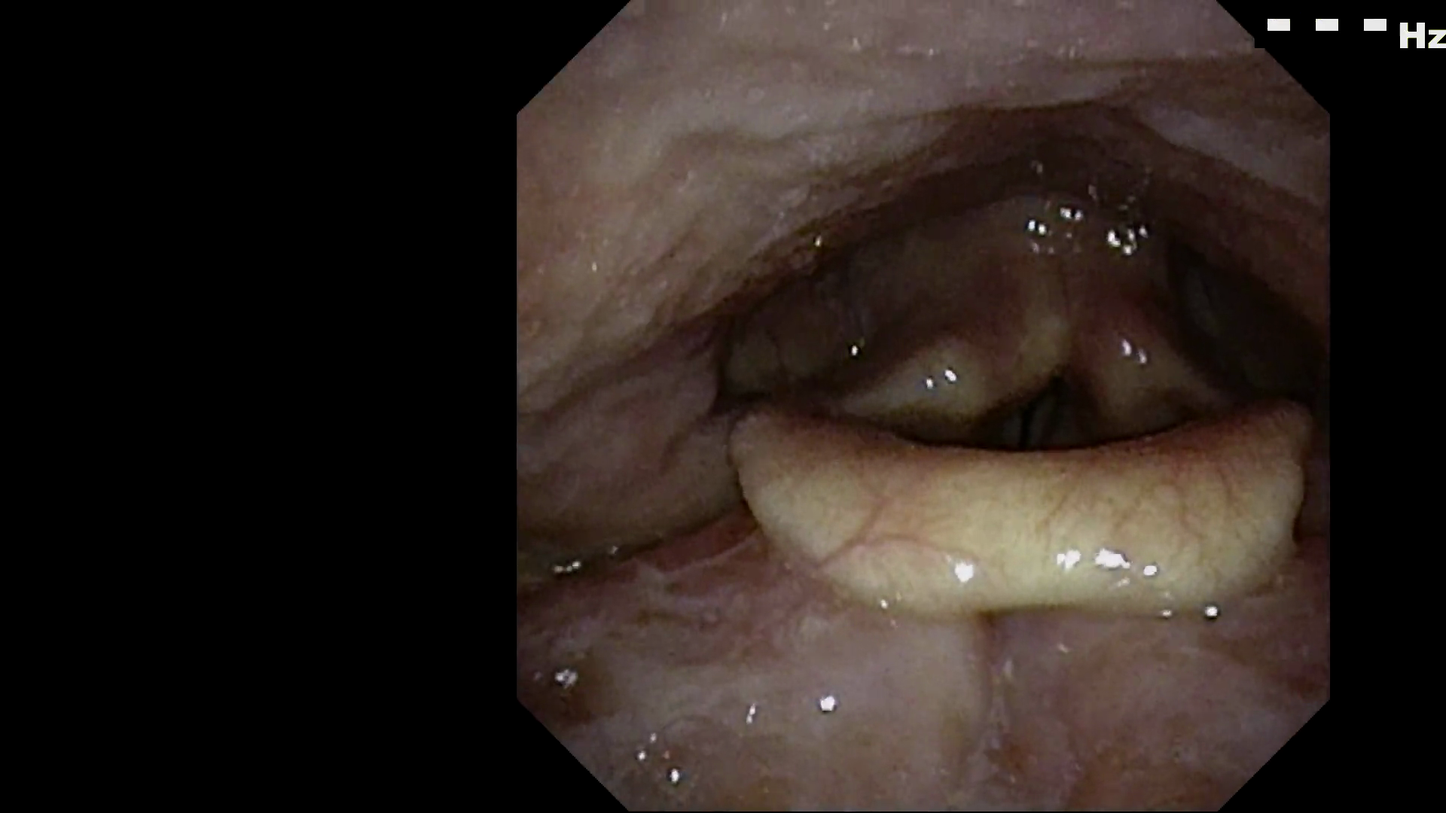epiglottis: (712, 366, 1318, 626)
trachea: (989, 349, 1093, 476)
